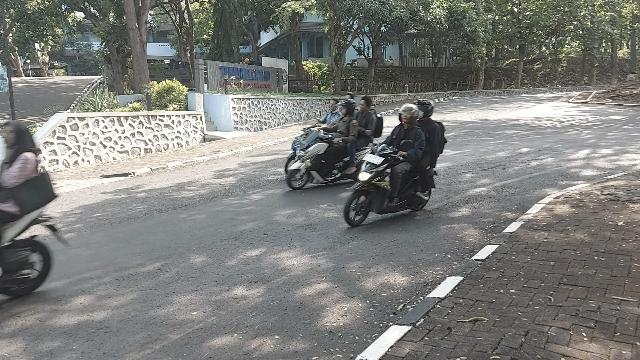helm: (400, 104, 420, 124), (416, 100, 434, 119), (338, 100, 356, 116)
motor: (345, 131, 440, 227), (289, 132, 366, 190)
non-helm: (360, 97, 372, 111), (332, 100, 339, 111)
